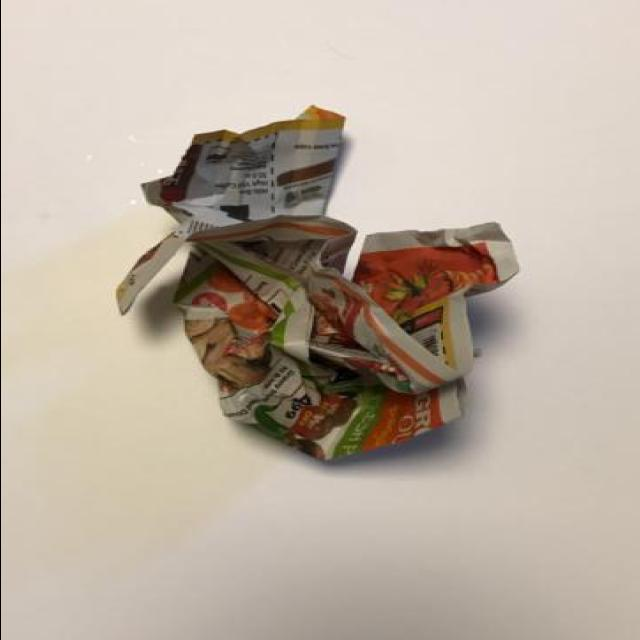kertas: (116, 102, 520, 465)
